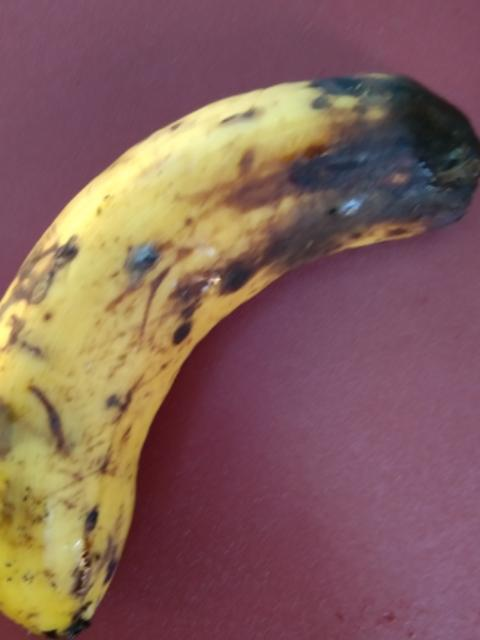rotten: (0, 61, 475, 639)
